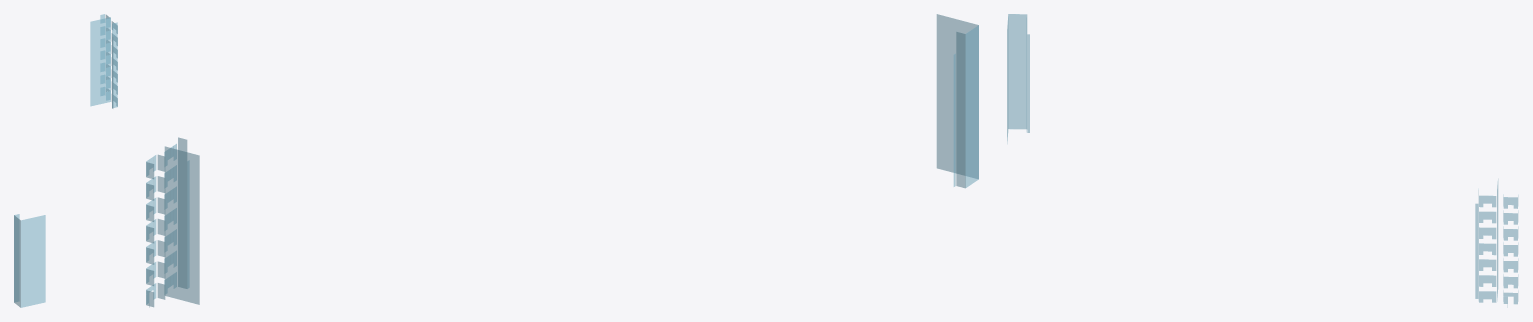
Rendered from 20160125Autodesk_Hospital_Parking Garage_2015_Exist_Garage_-_Ground_Level_IfcPlate.dae.
The picture shows the model from 3 angles, left to right: view 1: azimuth 30°, elevation 25°; view 2: azimuth 150°, elevation 25°; view 3: azimuth 270°, elevation 25°; orthographic projection. The views are drawn at different scales.
Parts seen in each view (by area): view 1: 2dSf0svjP7rhVlUcWVMVfy, 1$wvjrhQLCMwTVnMWfzL1s, 3yftiXRYjCxvPDDKeWxriz, 3yftiXRYjCxvPDDKeWxrjQ, 1$wvjrhQLCMwTVnMWfzLEl, 3PP3KPmZ16$glfW6EwN9Fz; view 2: 2dSf0svjP7rhVlUcWVMVfy, 1$wvjrhQLCMwTVnMWfzL1s, 3yftiXRYjCxvPDDKeWxriz, 3yftiXRYjCxvPDDKeWxrjQ, 1$wvjrhQLCMwTVnMWfzLEl; view 3: 3yftiXRYjCxvPDDKeWxriz, 3PP3KPmZ16$glfW6EwN9Fz.
Boxes of the visible parts, left/top/right/bottom form: 2dSf0svjP7rhVlUcWVMVfy: left=21, top=215, right=45, bottom=307; 1$wvjrhQLCMwTVnMWfzL1s: left=90, top=17, right=110, bottom=106; 3yftiXRYjCxvPDDKeWxriz: left=14, top=215, right=20, bottom=307; 3yftiXRYjCxvPDDKeWxrjQ: left=14, top=214, right=19, bottom=302; 1$wvjrhQLCMwTVnMWfzLEl: left=112, top=22, right=117, bottom=107; 3PP3KPmZ16$glfW6EwN9Fz: left=112, top=36, right=113, bottom=108; 2dSf0svjP7rhVlUcWVMVfy: left=936, top=14, right=978, bottom=178; 1$wvjrhQLCMwTVnMWfzL1s: left=164, top=146, right=199, bottom=304; 3yftiXRYjCxvPDDKeWxriz: left=965, top=25, right=978, bottom=187; 3yftiXRYjCxvPDDKeWxrjQ: left=956, top=32, right=965, bottom=187; 1$wvjrhQLCMwTVnMWfzLEl: left=178, top=137, right=187, bottom=288; 3yftiXRYjCxvPDDKeWxriz: left=1008, top=14, right=1026, bottom=129; 3PP3KPmZ16$glfW6EwN9Fz: left=1475, top=203, right=1478, bottom=298.
Size of the model in its own units: 73.34 by 88.75 by 22.06.
